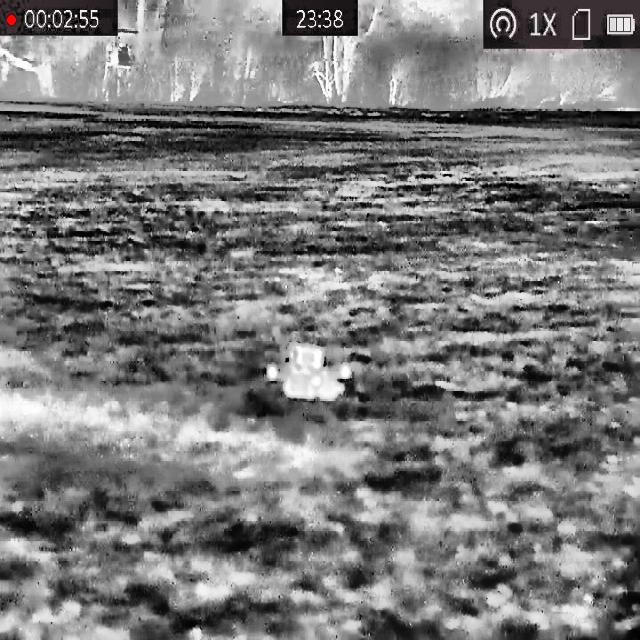drone: (266, 341, 352, 400)
